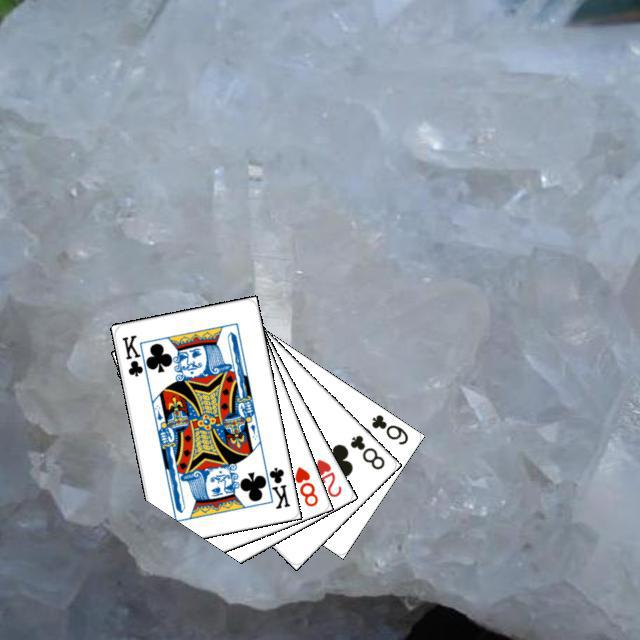2h: (311, 454, 343, 499)
6c: (366, 410, 410, 447)
8c: (345, 430, 386, 471)
8h: (290, 462, 320, 508)
Kc: (259, 460, 292, 511), (117, 330, 150, 380)
